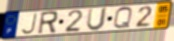2: (65, 10, 85, 34), (135, 6, 154, 29)
J: (20, 12, 39, 36)
Q: (112, 6, 134, 31)
R: (36, 10, 60, 36)
U: (85, 7, 109, 32)
